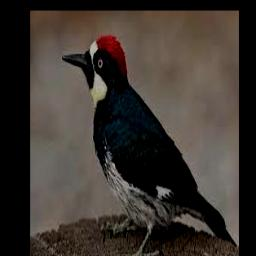Woodpecker: (61, 34, 236, 256)
